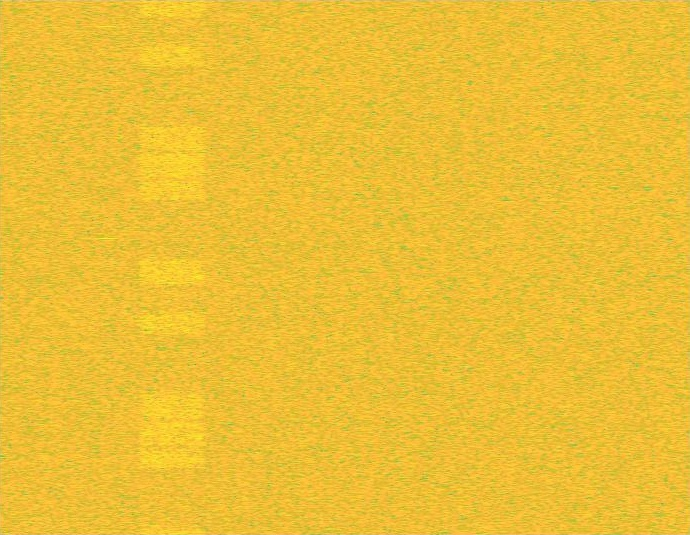LTE: (138, 0, 207, 534)
Radar: (100, 0, 113, 534)
